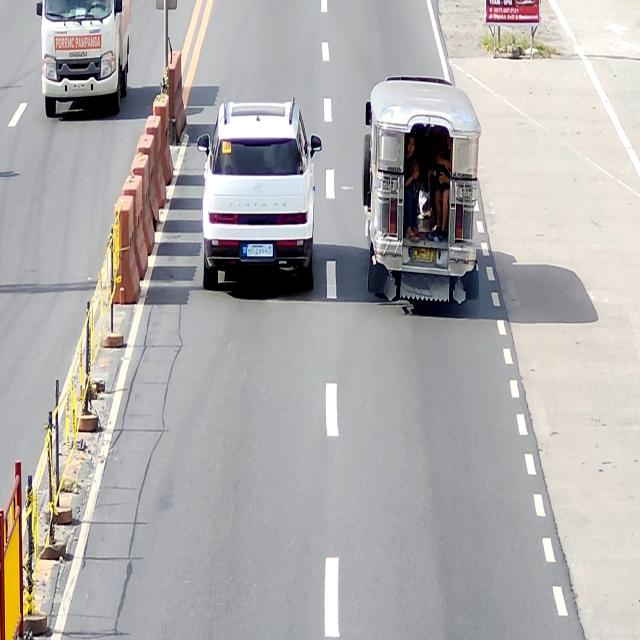Car: (196, 97, 322, 290)
Jeep: (363, 75, 481, 304)
License-Plate: (409, 245, 439, 270), (241, 241, 274, 260)
Truck: (35, 0, 131, 117)
